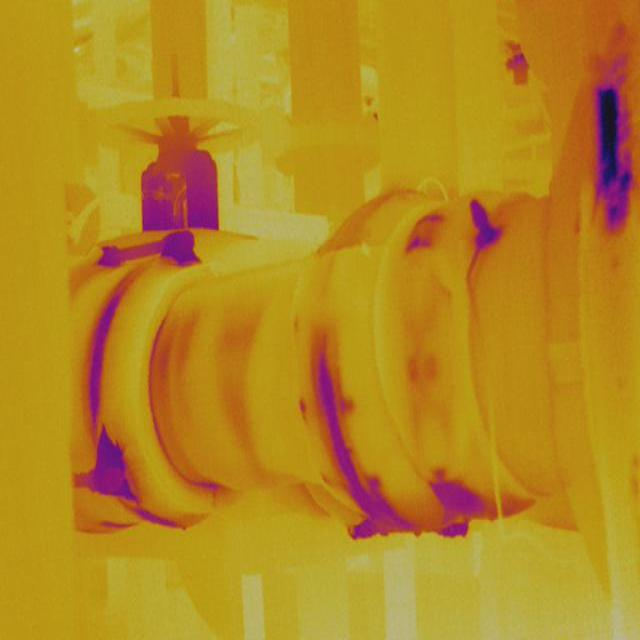leakage: (313, 330, 386, 540), (424, 462, 527, 542), (210, 310, 258, 457), (590, 81, 631, 236), (94, 226, 204, 273), (84, 288, 122, 424), (71, 430, 136, 504), (404, 332, 446, 393), (463, 190, 504, 246), (171, 304, 198, 372), (406, 208, 444, 251)
